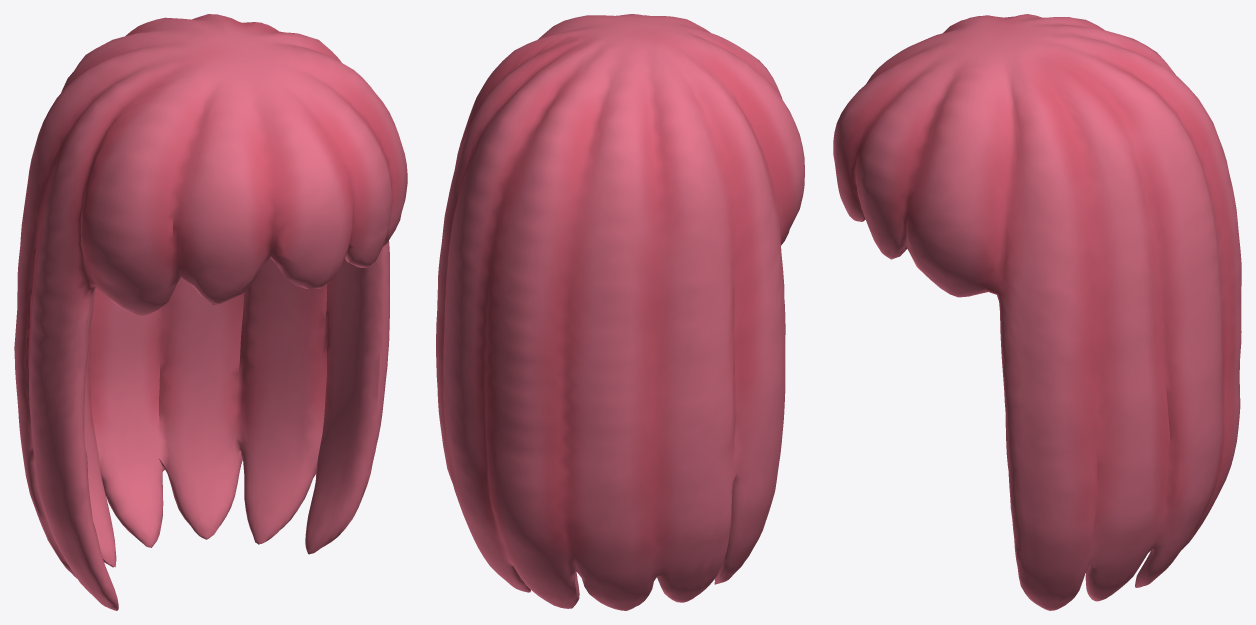
The model's file is new_one_length.glb.
3 renders of one model, left to right at view 1: azimuth 30°, elevation 25°; view 2: azimuth 150°, elevation 25°; view 3: azimuth 270°, elevation 25°, orthographic. The views are drawn at different scales.
Parts seen in each view (by area): view 1: long_hair_bangs1; view 2: long_hair_bangs1; view 3: long_hair_bangs1.
Boxes of the visible parts, x1=… form: long_hair_bangs1: x1=14, y1=14, x2=407, y2=610; long_hair_bangs1: x1=436, y1=14, x2=804, y2=610; long_hair_bangs1: x1=833, y1=14, x2=1241, y2=610.
Bounding box in the file's own units: 1.82 × 2.8 × 1.95.
Materials: 1 (1 with a texture image).
